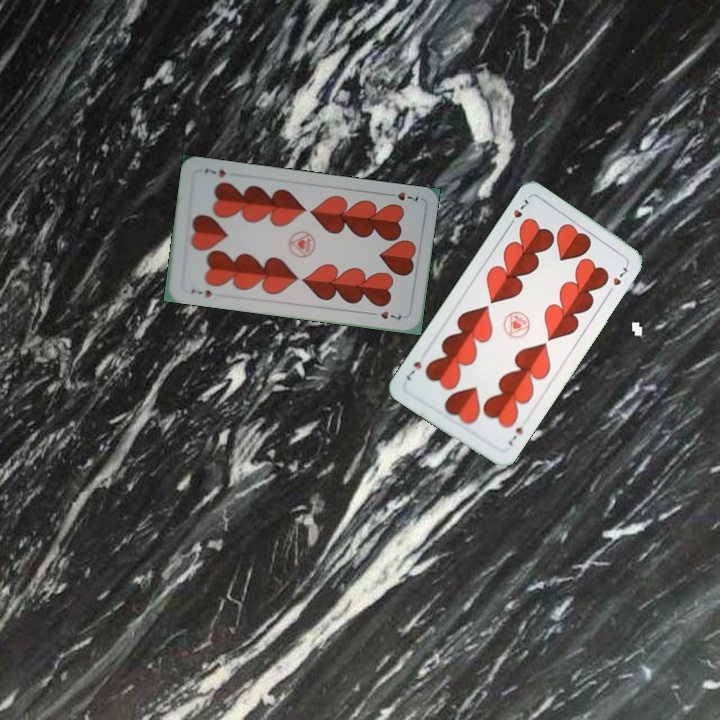H7: (504, 195, 532, 230), (382, 188, 421, 205), (505, 423, 526, 448), (187, 285, 214, 300)
